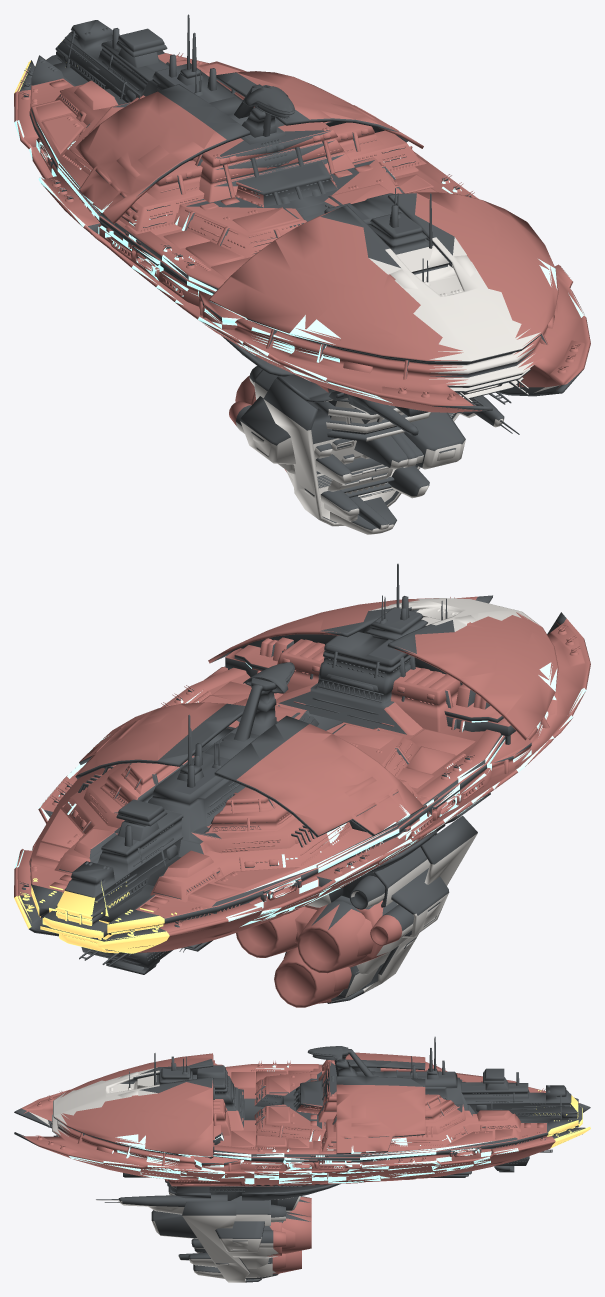
Rendered from valor_class_cruiser.glb.
3 renders of one model, top to bottom at view 1: azimuth 30°, elevation 25°; view 2: azimuth 150°, elevation 25°; view 3: azimuth 270°, elevation 25°, orthographic. The views are drawn at different scales.
Visible parts, largest first — view 1: Valor_class; view 2: Valor_class; view 3: Valor_class.
Part boxes in pixels (x1,y1,x2,y2): Valor_class: [14, 14, 590, 534]; Valor_class: [14, 563, 590, 1007]; Valor_class: [14, 1036, 590, 1282].
Size of the model in its own units: 0.4096 by 0.466 by 1.
Materials: 3 (3 with a texture image).
